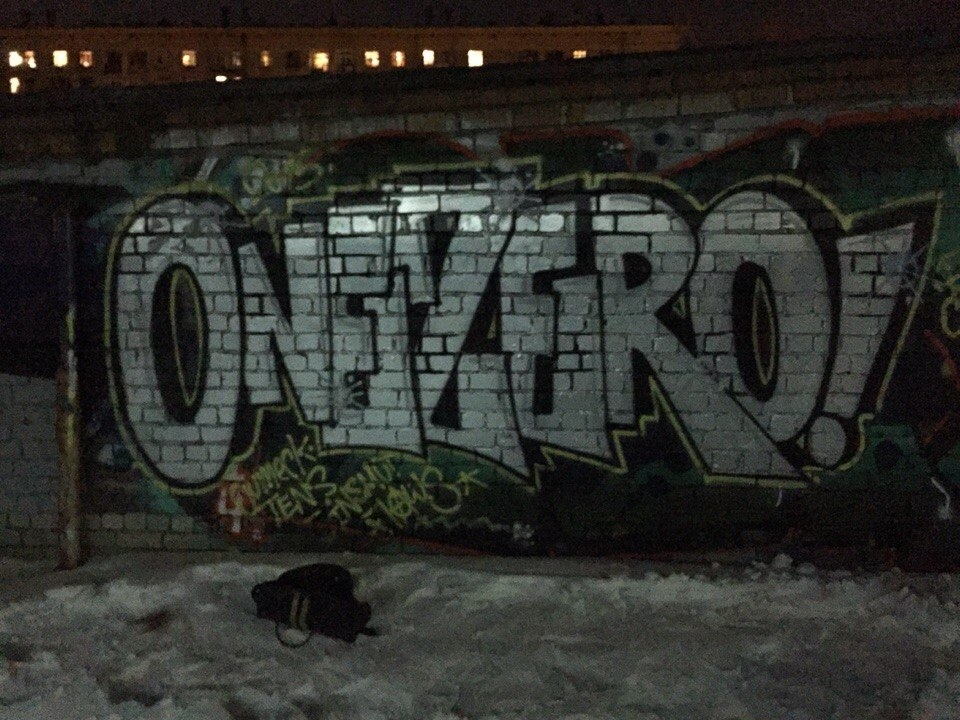graffity: (100, 137, 951, 543)
